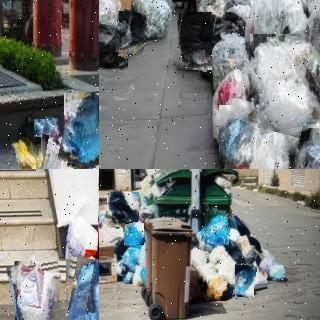Garbage: (245, 30, 320, 131), (213, 101, 299, 169), (10, 258, 69, 320), (209, 64, 250, 147), (60, 91, 99, 166), (55, 256, 99, 320), (29, 117, 82, 169), (175, 11, 214, 71), (99, 24, 129, 69), (117, 10, 146, 56), (106, 191, 140, 228), (203, 210, 231, 245), (17, 136, 44, 169), (234, 263, 256, 298), (206, 274, 230, 301), (225, 238, 245, 265), (123, 222, 145, 246), (247, 263, 268, 288), (122, 246, 140, 268), (267, 261, 285, 280)
